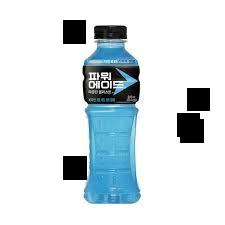powerade_mountainblast: (80, 17, 149, 203)
